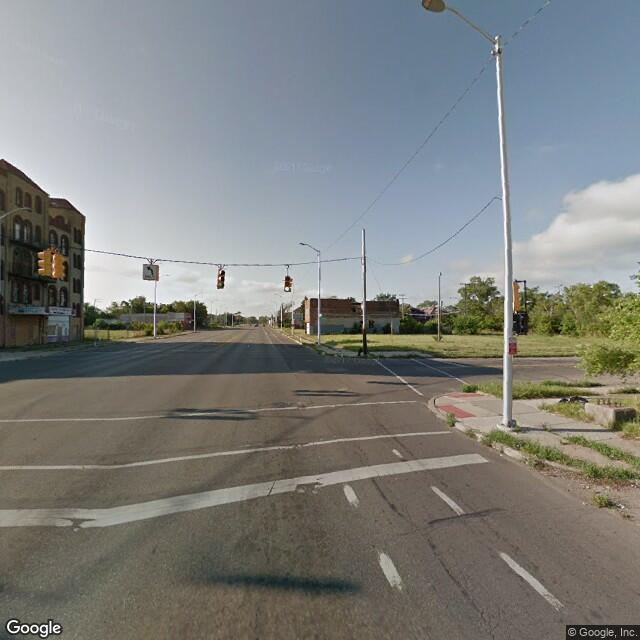litter: (560, 396, 588, 405), (618, 503, 626, 509)
